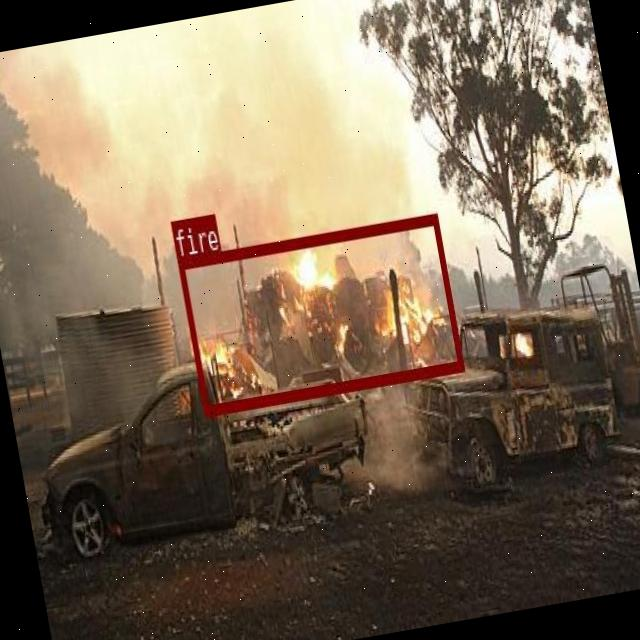fire: (176, 212, 462, 414)
